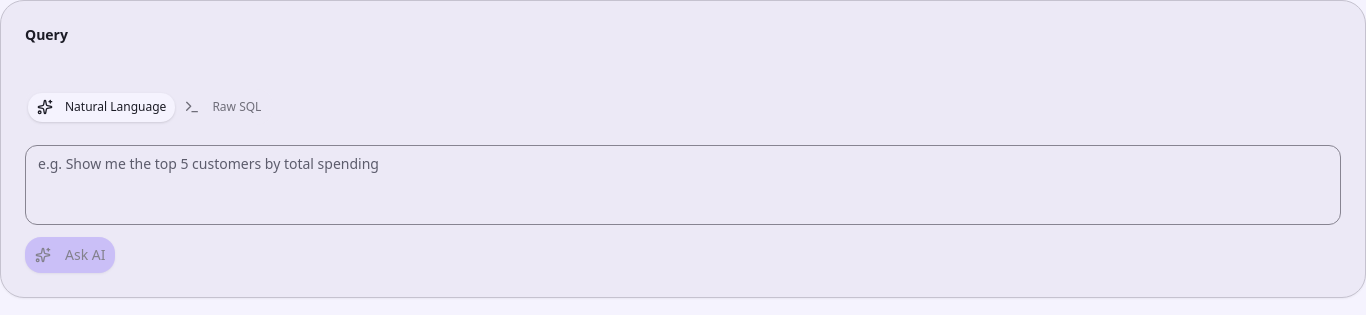
Test: QueryEditor › enables Ask AI button when textarea has content
The width and height of the screenshot is (1366, 315).
Type "test" into the text box named "Question for the SQL agent" at {"x": 683, "y": 185}, box [25,145,1341,225]
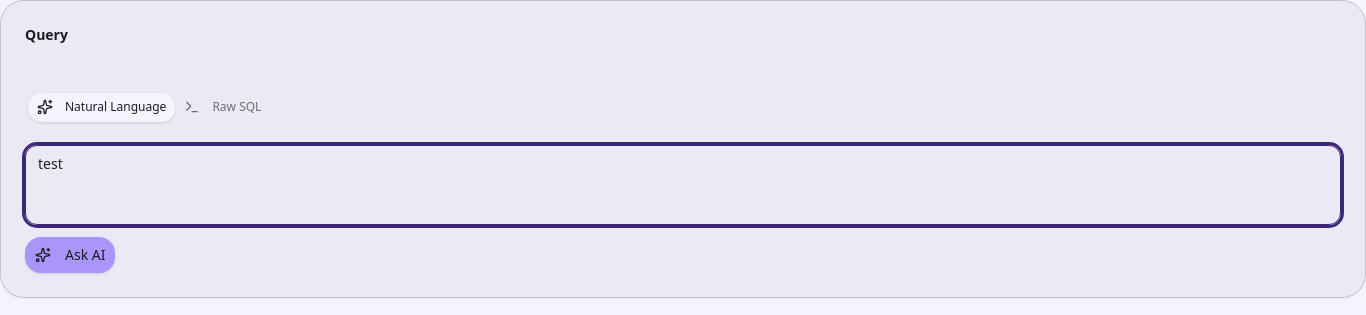
Check: the button "Ask AI" is enabled, box [25,237,116,273]
